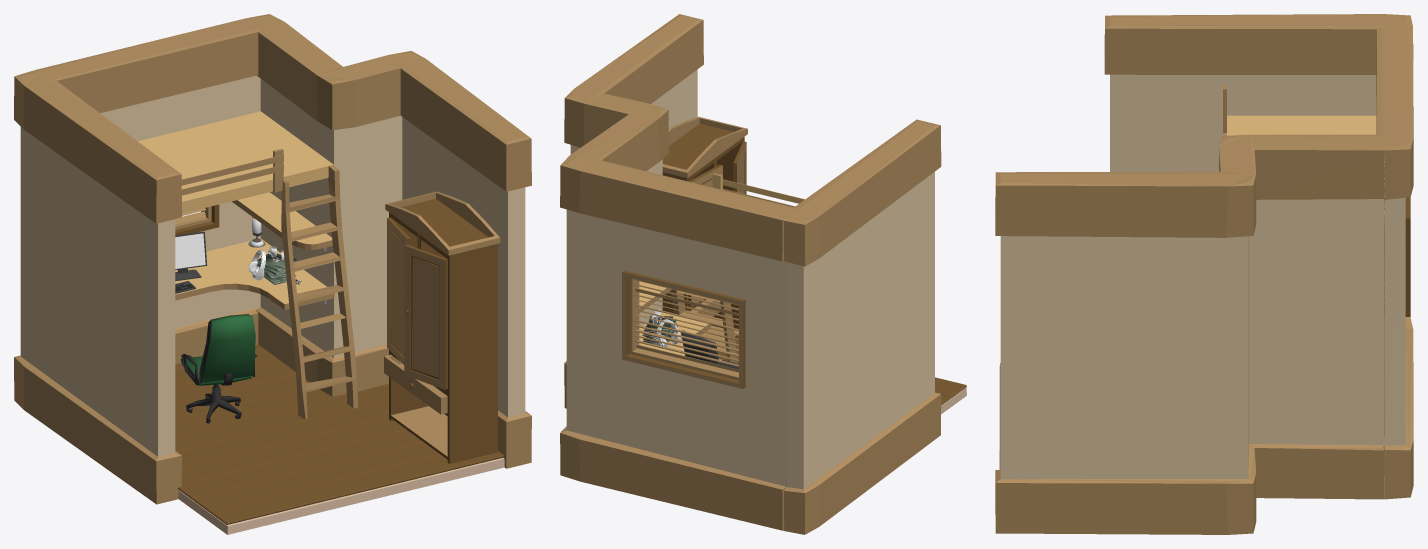
File: compressed_workspace.glb
3 views of the same model, side by side, from view 1: azimuth 30°, elevation 25°; view 2: azimuth 150°, elevation 25°; view 3: azimuth 270°, elevation 25° (orthographic). The views are drawn at different scales.
Size of the model in its own units: 2.86 by 2.7 by 2.93.
